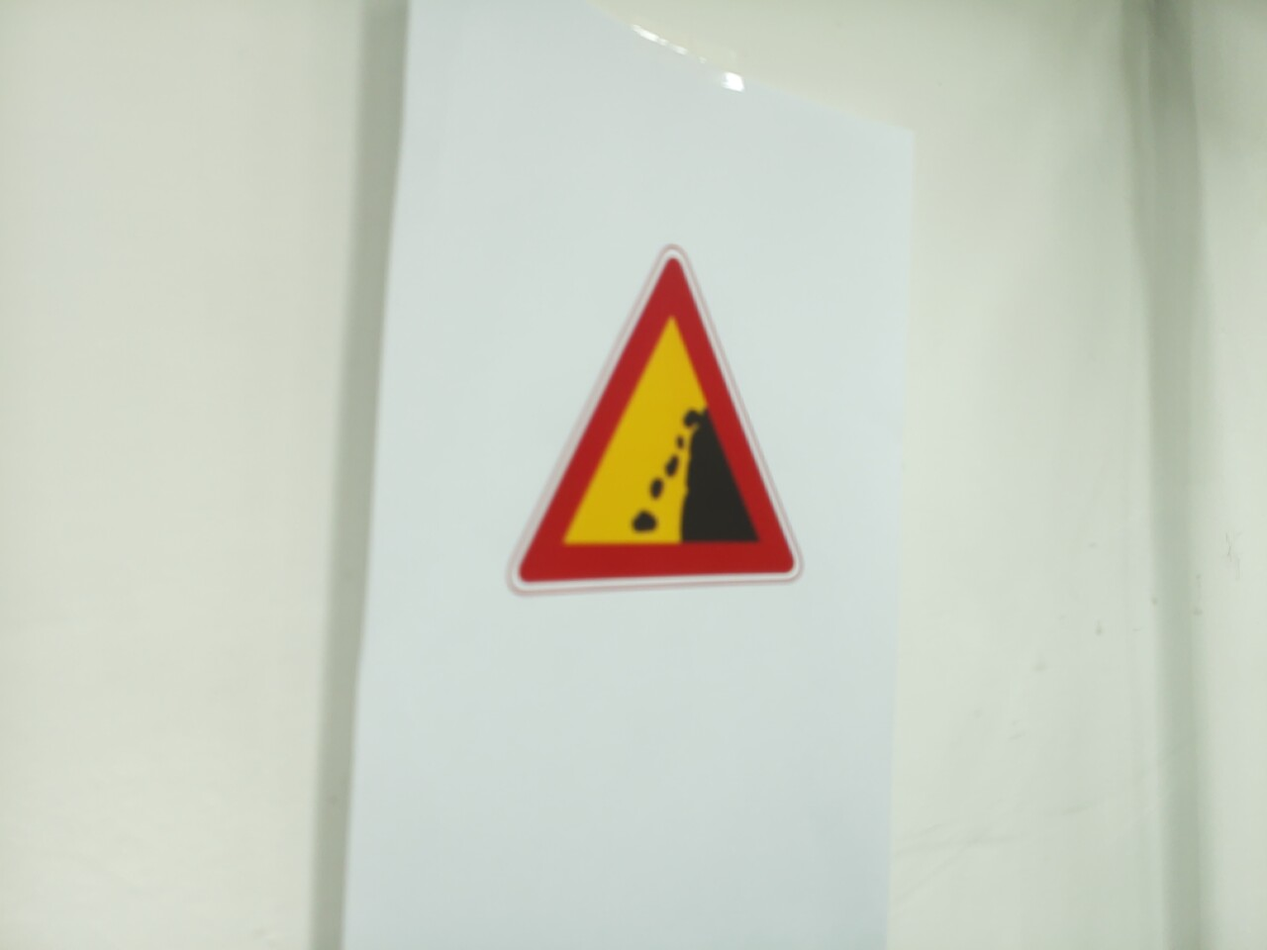falling_rocks: (510, 248, 803, 593)
